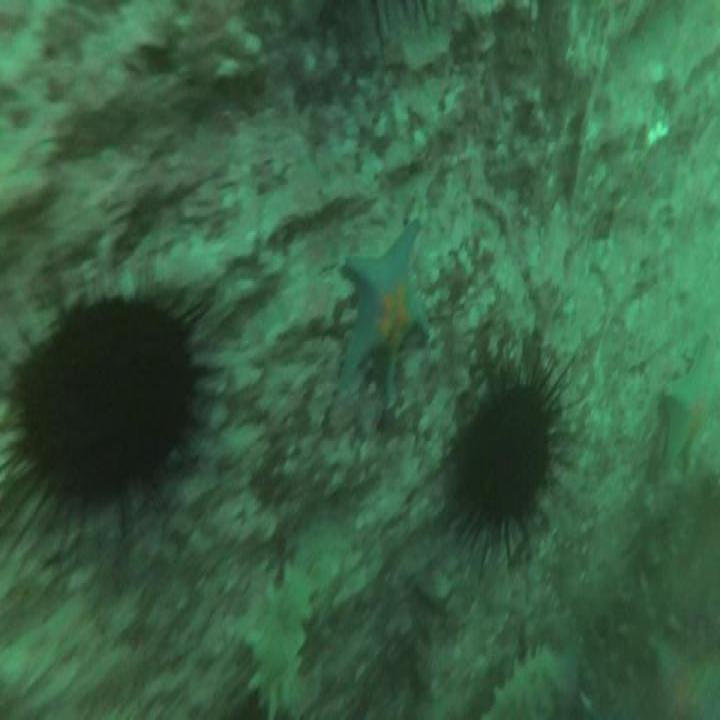echinus: (1, 258, 226, 565), (444, 338, 572, 572)
holothurian: (239, 558, 319, 720), (477, 645, 570, 720)
starfish: (330, 217, 432, 412), (657, 320, 720, 487), (649, 638, 720, 720)
